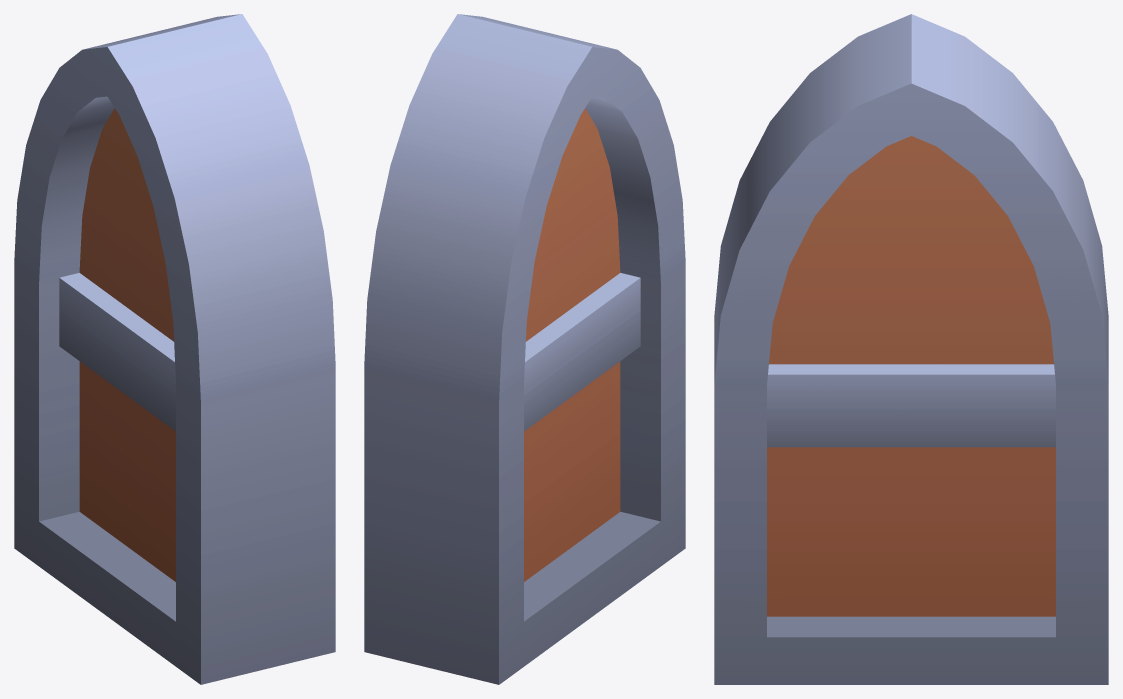
The model's file is door.glb.
3 renders of one model, left to right at view 1: azimuth 30°, elevation 25°; view 2: azimuth 150°, elevation 25°; view 3: azimuth 270°, elevation 25°, orthographic. The views are drawn at different scales.
Visible parts, largest first — view 1: door; view 2: door; view 3: door.
Boxes of the visible parts, x1,y1,x2,y2 form: door: (14, 14, 335, 684); door: (364, 14, 685, 684); door: (714, 14, 1108, 684).
Bounding box in the file's own units: 0.15 × 0.6053 × 0.3594.
Materials: 1 (1 with a texture image).
